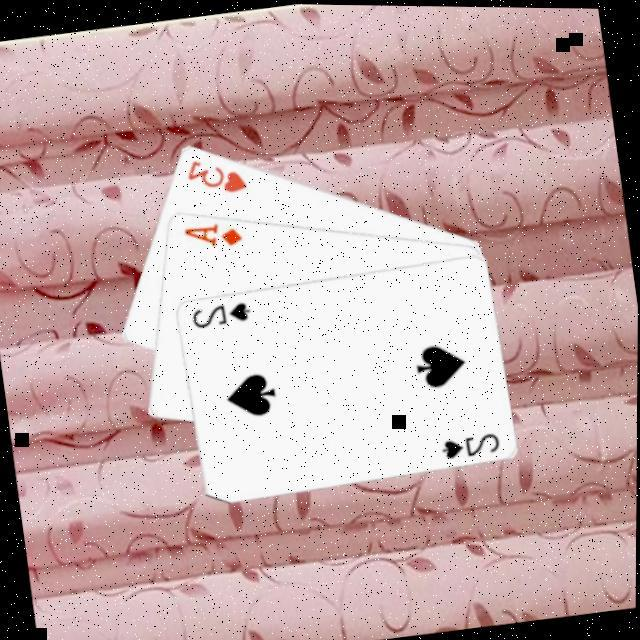2S: (185, 294, 252, 332), (435, 425, 502, 461)
3H: (180, 148, 249, 200)
AD: (178, 214, 244, 253)
